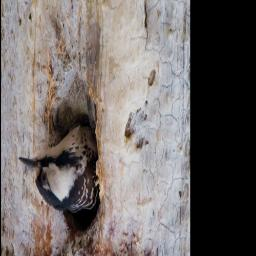Woodpecker: (19, 120, 98, 219)
